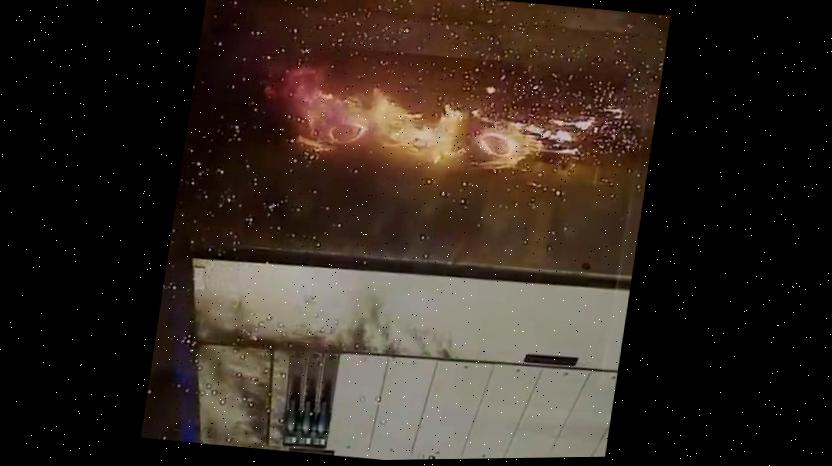fire: (219, 15, 629, 250)
